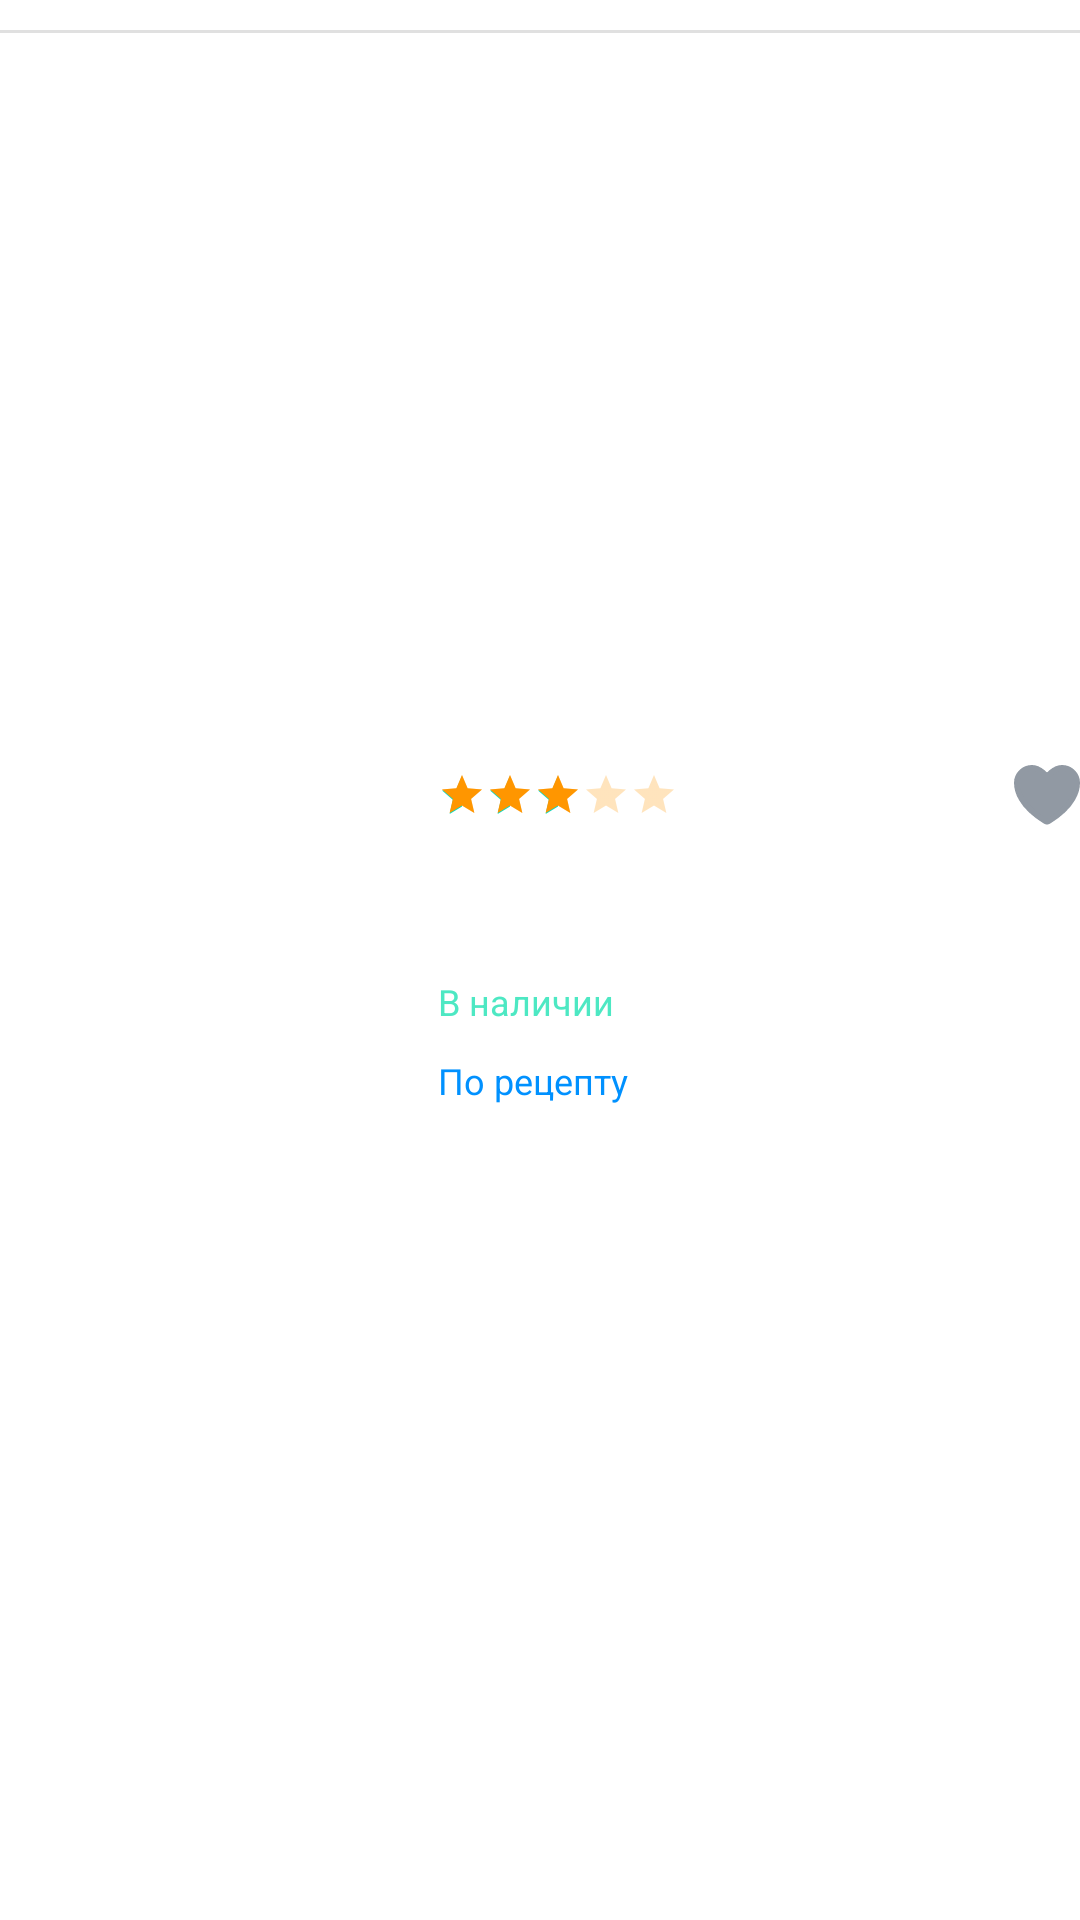

Point at icon controls on the screen. Image size 1080 x 1920, points as (x=x, y=y).
heart: (x=1047, y=795)
